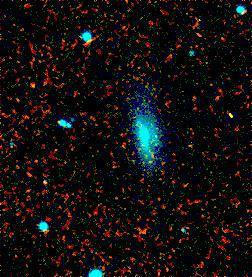star: (14, 66, 44, 96)
